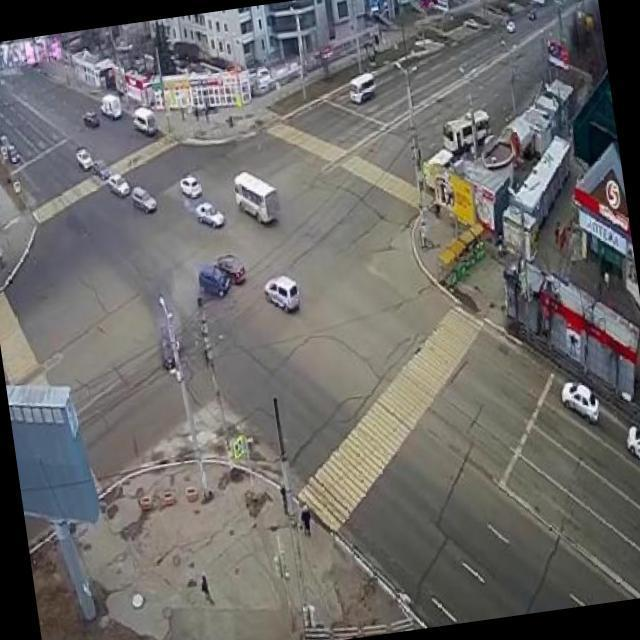accident: (207, 254, 240, 287)
